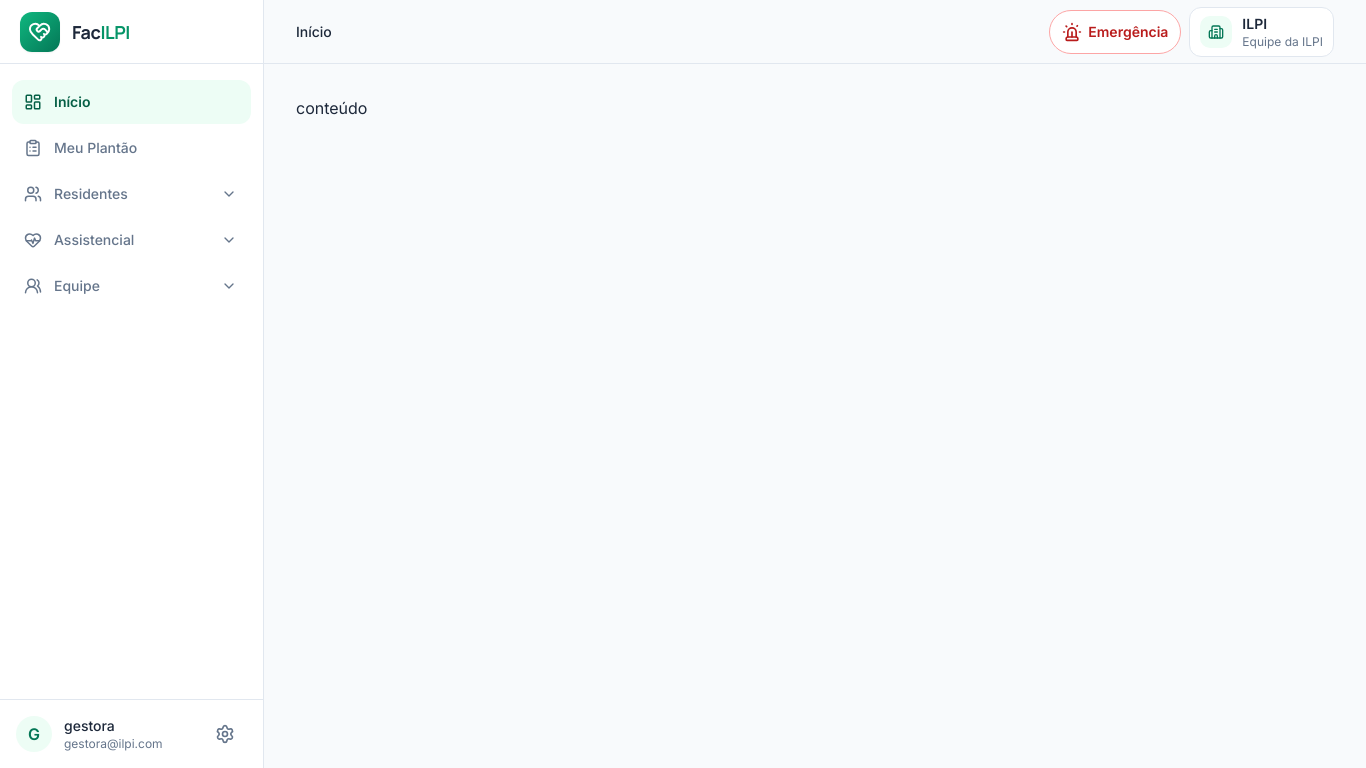
Scenario: UX-00B — sidebar em accordion › só um grupo aberto por vez e a escolha fica na aba
Click the button named "Submenu de Residentes". click: (229, 194)
box: [207,172,251,216]
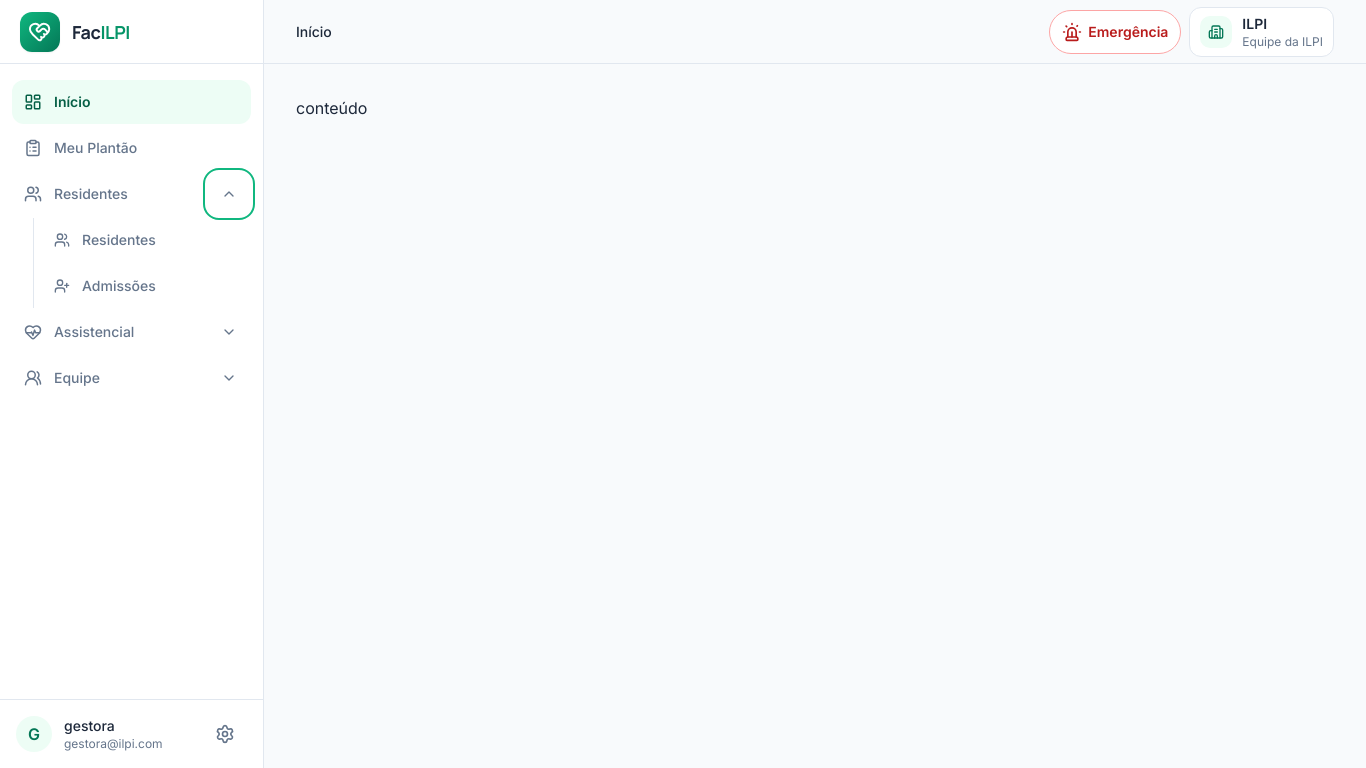
Click the button named "Submenu de Assistencial". click: (229, 332)
box: [207,310,251,354]
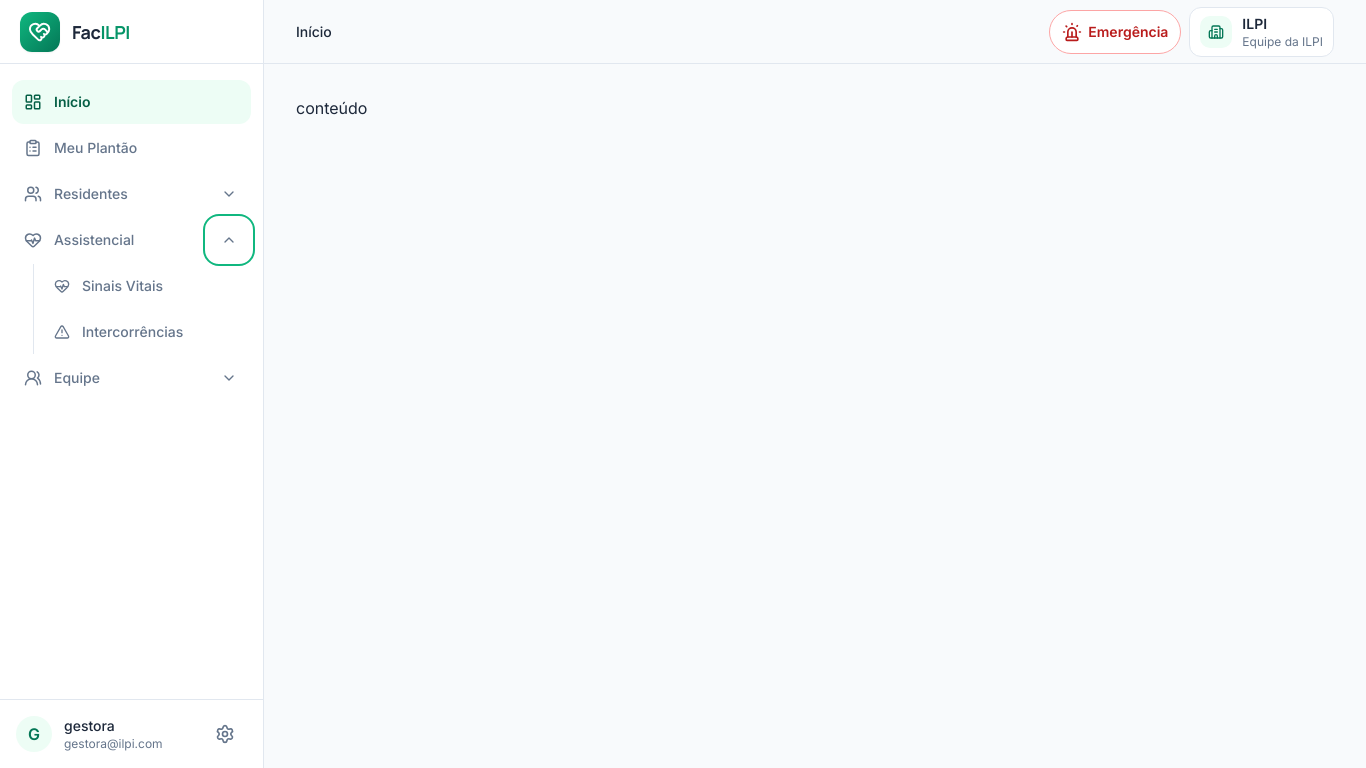
Expected: the button named "Submenu de Residentes" is collapsed, [207,172,251,216]
